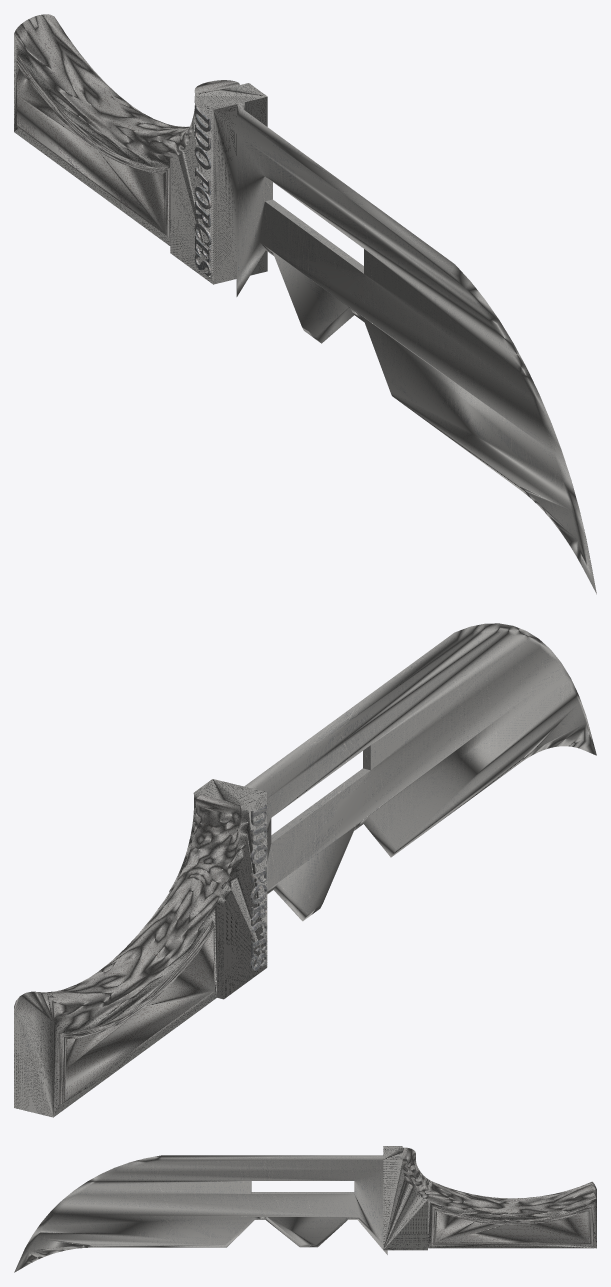
Rendered from model_align.obj.
The picture shows the model from 3 angles, top to bottom: view 1: azimuth 30°, elevation 25°; view 2: azimuth 150°, elevation 25°; view 3: azimuth 270°, elevation 25°; orthographic projection. The views are drawn at different scales.
Bounding box in the file's own units: 0.0132 × 0.0517 × 0.2278.
Materials: 3 (3 with a texture image).
